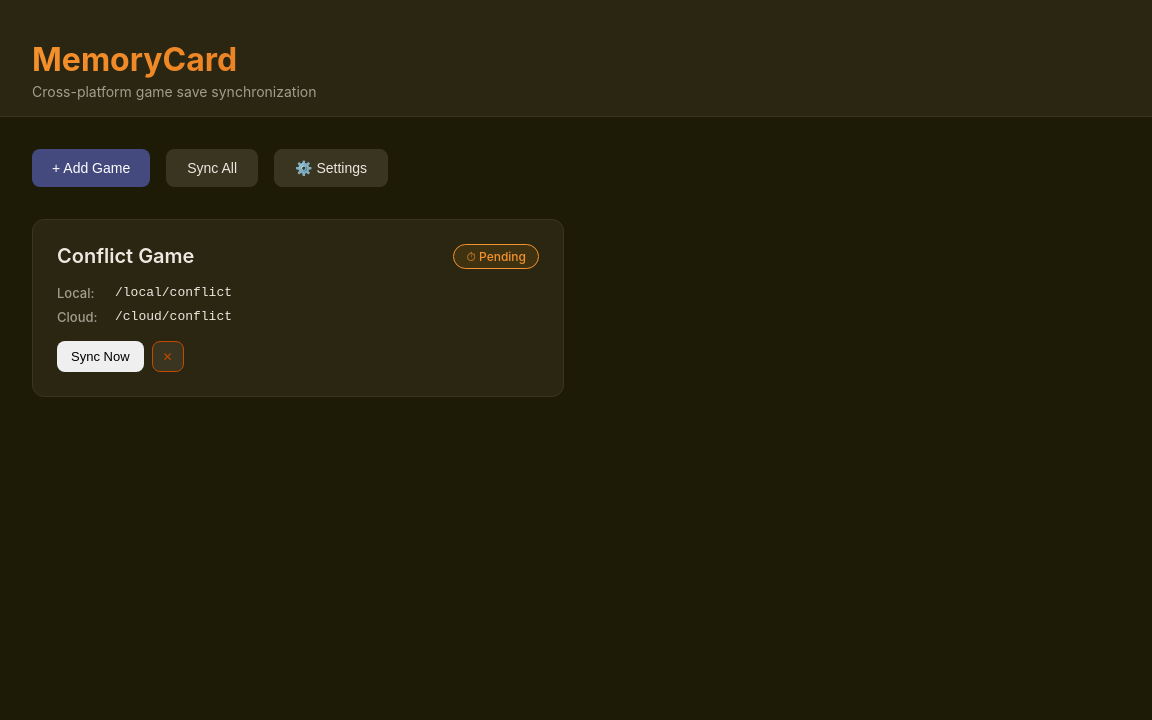
Test case: App › Conflict Resolution › shows conflict modal when sync returns conflicts
Expected: the heading "Conflict Game" is shown, [57, 244, 194, 268]
Click the button "Sync All" at coordinates (212, 168), box [166, 149, 258, 187]
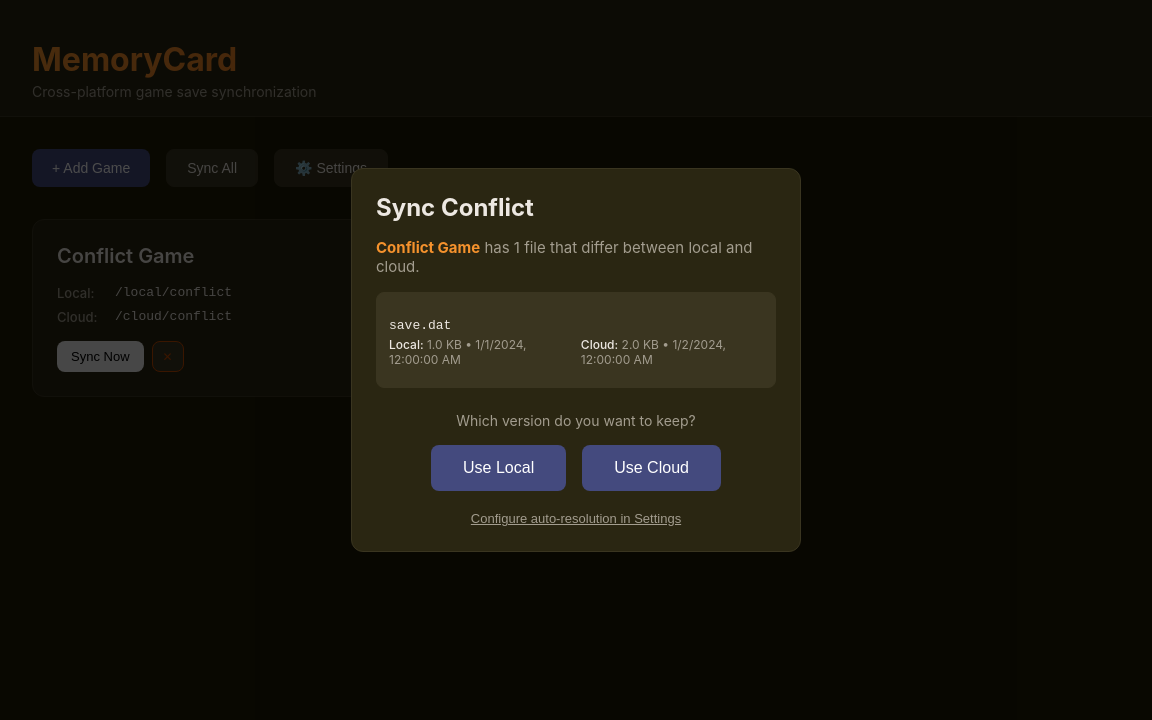
Expected: the heading "Sync Conflict" is shown, [376, 193, 534, 222]
Expected: the text "save.dat" is shown, [389, 318, 451, 333]
